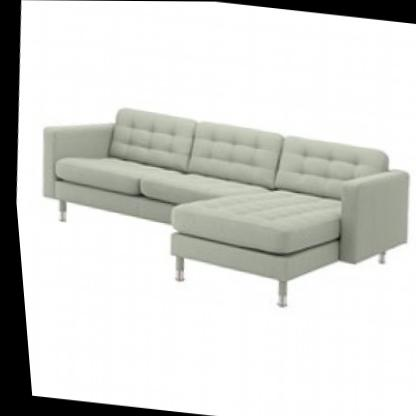Sofa: (15, 86, 416, 325)
